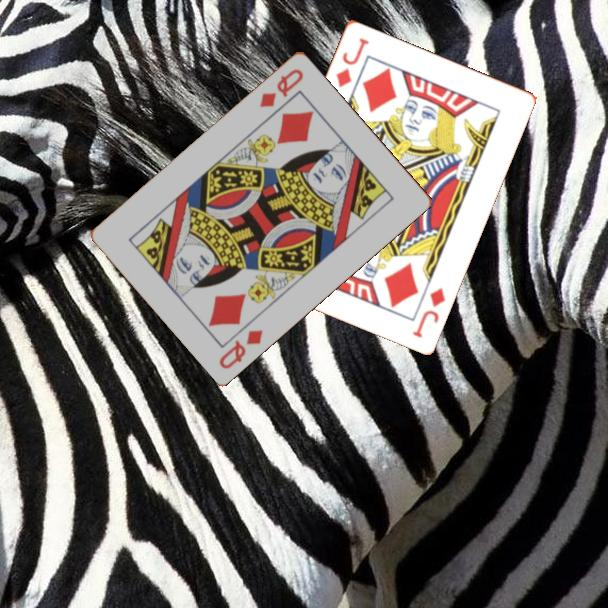d11: (408, 283, 448, 340), (332, 34, 372, 90)
d12: (216, 325, 266, 372), (256, 65, 307, 110)
